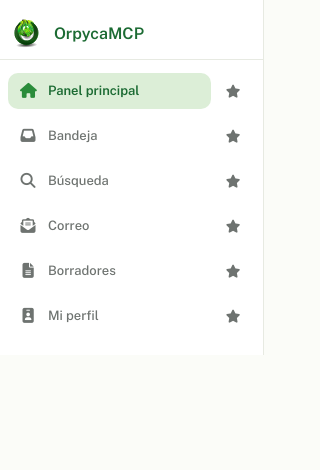
Test: SidebarNav — favoritos (§10 módulo 04) › desfijar desde el botón del menú principal quita el ítem de 'Favoritos'
The image size is (320, 470).
Click the button named "Fijar Bandeja a favoritos" at (233, 136), box [211,114,255,158]
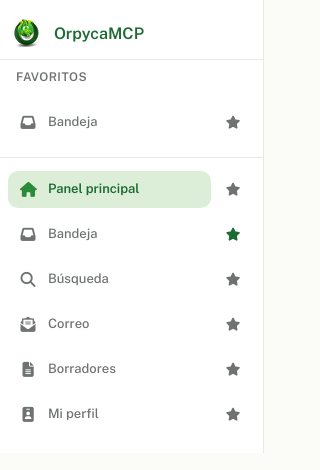
Expected: the text "Favoritos" is shown, [16,70,87,84]
# El botón del ítem del menú principal (no el de la sección Favoritos) ahora dice "Quitar".
Click the button named "Quitar Bandeja de favoritos" below "Panel principal" at (233, 234), box [211,212,255,256]
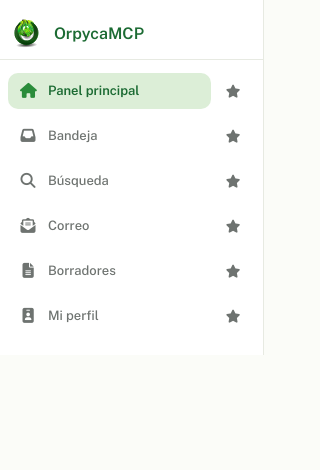
Expected: the text "Favoritos" is gone
Expected: the number of links "Bandeja" is 1, [20,128,98,144]
